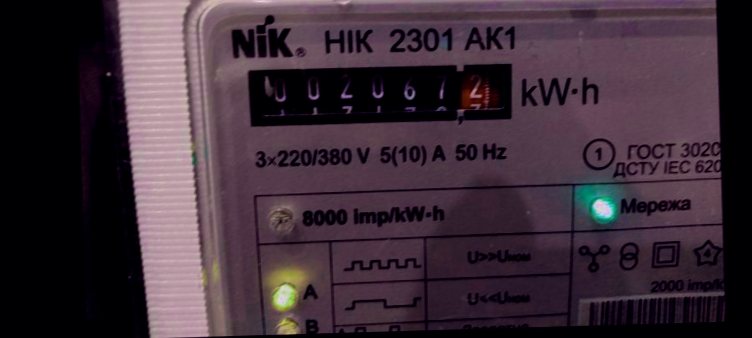0: (271, 75, 290, 105), (368, 70, 386, 99), (305, 72, 322, 102)
2: (467, 71, 486, 100), (338, 71, 355, 101)
6: (401, 73, 420, 102)
7: (434, 72, 451, 102)
screen: (234, 49, 528, 140)
